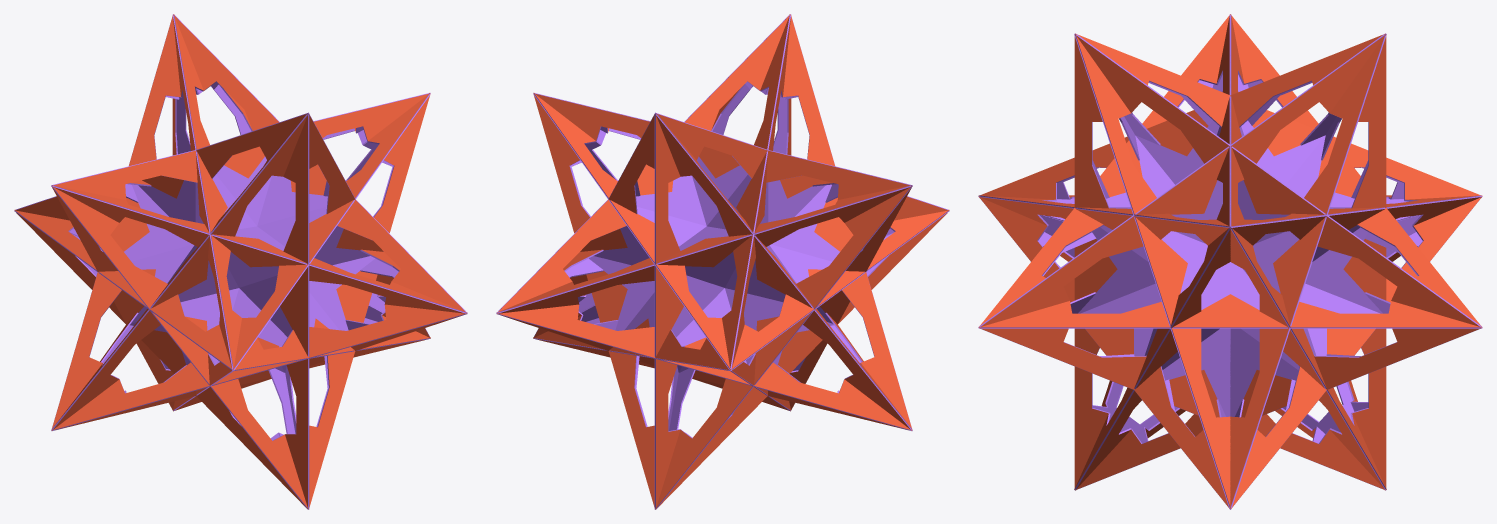
File: GreatIcosahedronS.glb
3 views of the same model, side by side, from view 1: azimuth 30°, elevation 25°; view 2: azimuth 150°, elevation 25°; view 3: azimuth 270°, elevation 25° (orthographic). The views are drawn at different scales.
Parts seen in each view (by area): view 1: Mesh_0.002; view 2: Mesh_0.002; view 3: Mesh_0.002.
Part boxes in pixels (bbox=[...]): Mesh_0.002: bbox=[14, 14, 467, 509]; Mesh_0.002: bbox=[496, 14, 949, 509]; Mesh_0.002: bbox=[978, 14, 1482, 509].
Bounding box in the file's own units: 7.5 × 7.5 × 7.5.
